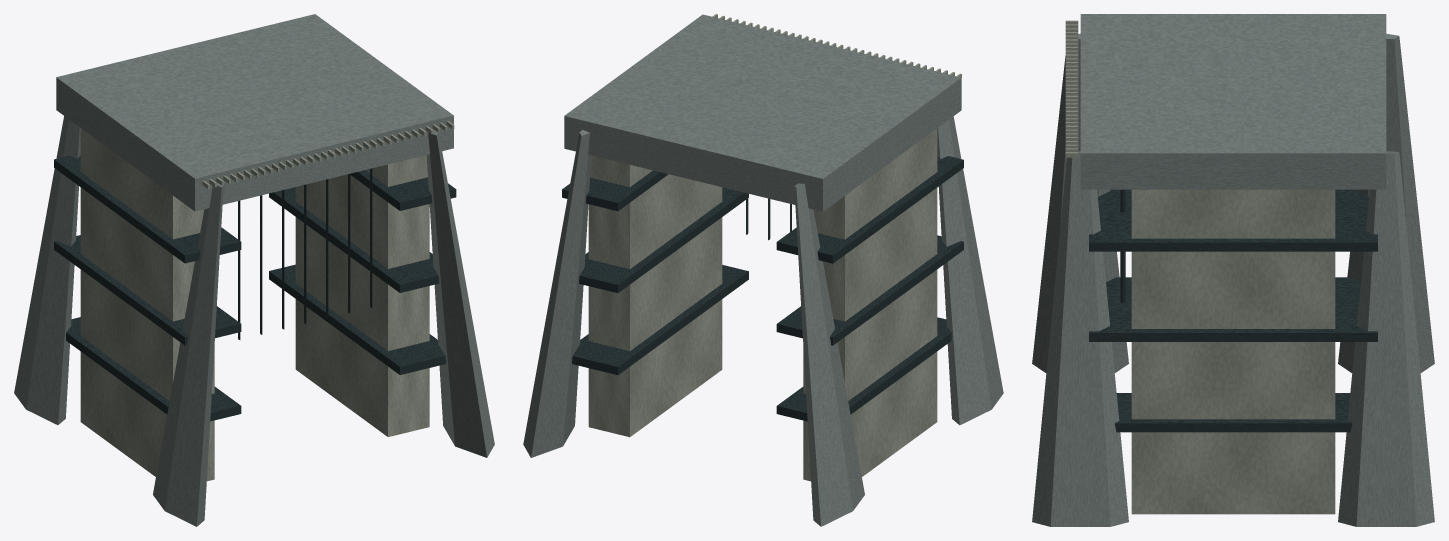
The model's file is rim_gate_titan_01.fbx.
3 views of the same model, side by side, from view 1: azimuth 30°, elevation 25°; view 2: azimuth 150°, elevation 25°; view 3: azimuth 270°, elevation 25° (orthographic). The views are drawn at different scales.
Parts seen in each view (by area): view 1: rim_gate_titan_01_LOD0; view 2: rim_gate_titan_01_LOD0; view 3: rim_gate_titan_01_LOD0.
Part boxes in pixels (left/top/right/bottom): rim_gate_titan_01_LOD0: left=14, top=14, right=494, bottom=526; rim_gate_titan_01_LOD0: left=523, top=14, right=1003, bottom=526; rim_gate_titan_01_LOD0: left=1032, top=14, right=1434, bottom=526.
Size of what is drawn, in the model's own units: 1 by 1 by 1.
